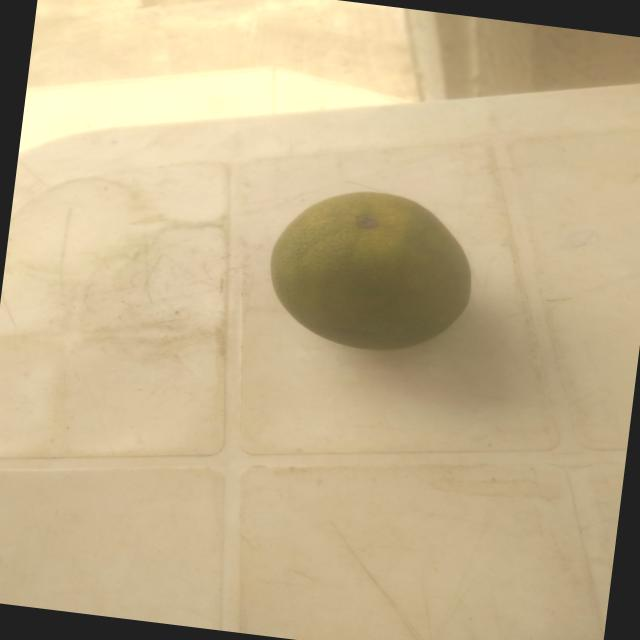Unripe: (245, 161, 500, 384)
